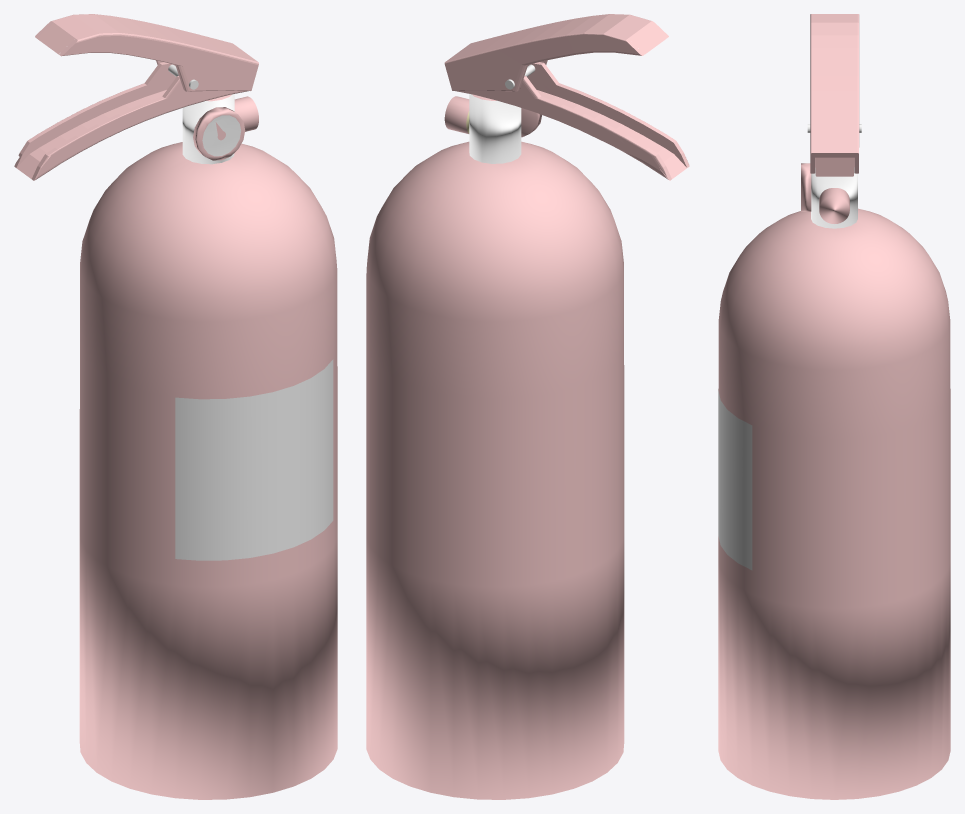
File: shitty.glb
3 views of the same model, side by side, from view 1: azimuth 30°, elevation 25°; view 2: azimuth 150°, elevation 25°; view 3: azimuth 270°, elevation 25° (orthographic). The views are drawn at different scales.
Parts seen in each view (by area): view 1: Cube; view 2: Cube; view 3: Cube.
Boxes of the visible parts, x1,y1,x2,y2 form: Cube: (14,14,337,799); Cube: (366,14,689,799); Cube: (718,14,950,799).
Bounding box in the file's own units: 0.7946 × 1.92 × 0.6.
